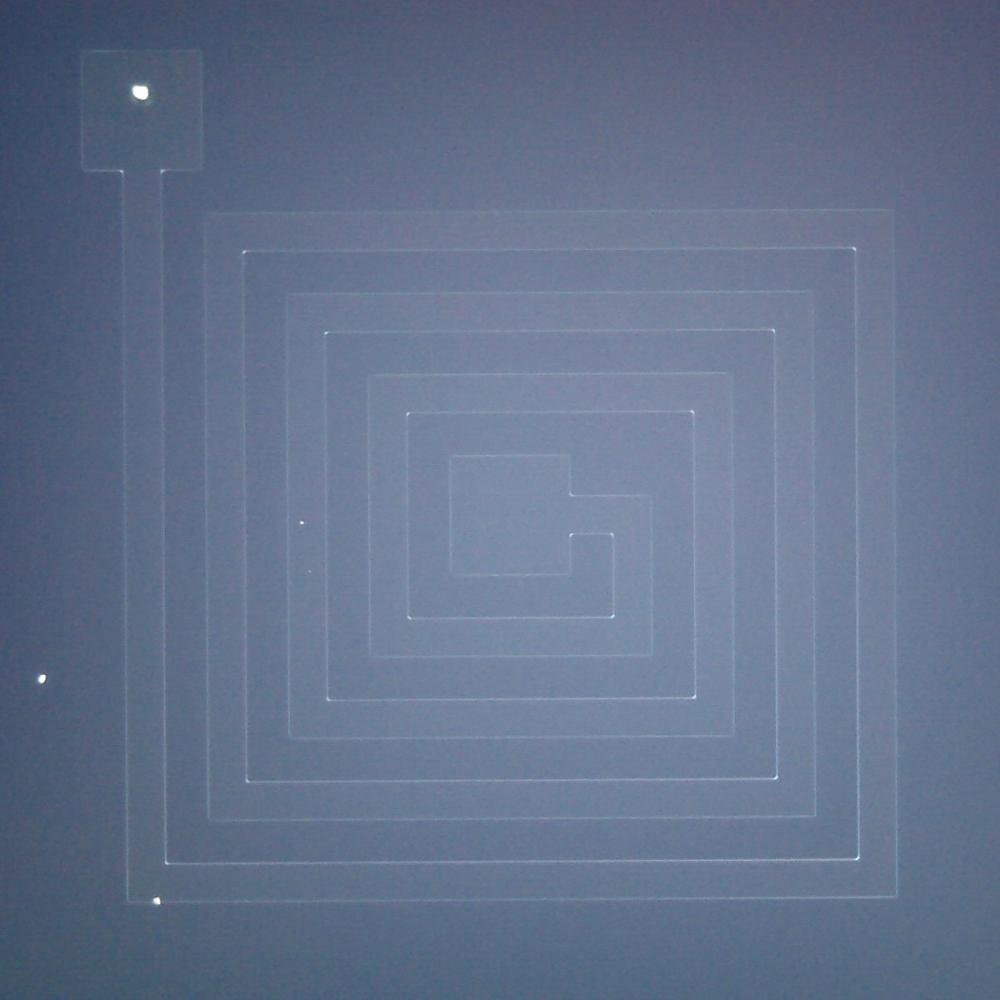Bdot: (133, 85, 149, 102)
dot: (38, 675, 46, 684), (153, 897, 161, 905), (300, 521, 304, 525)
